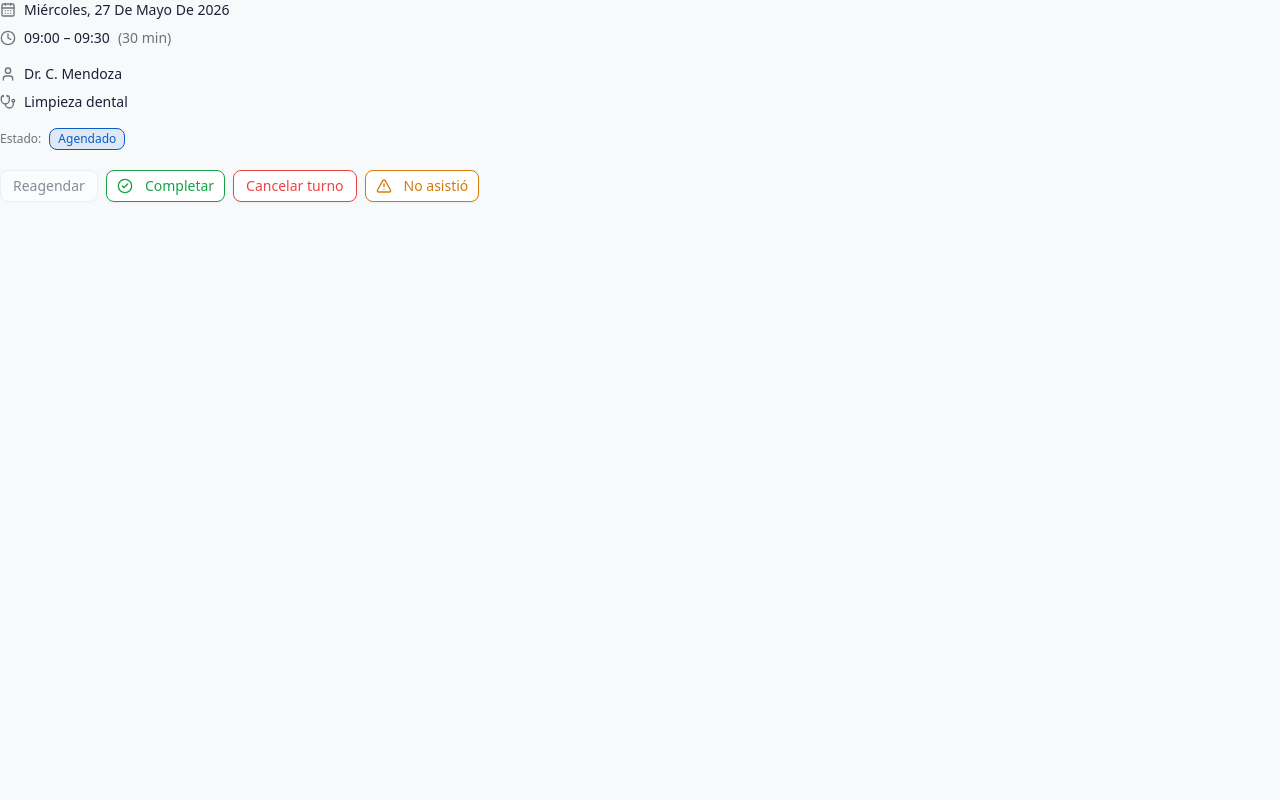
AppointmentDrawerTurnoSection › 'Cancelar turno' click opens confirm dialog (Q8)
Click the button "Cancelar turno". click: (295,186)
box: [233,170,357,202]
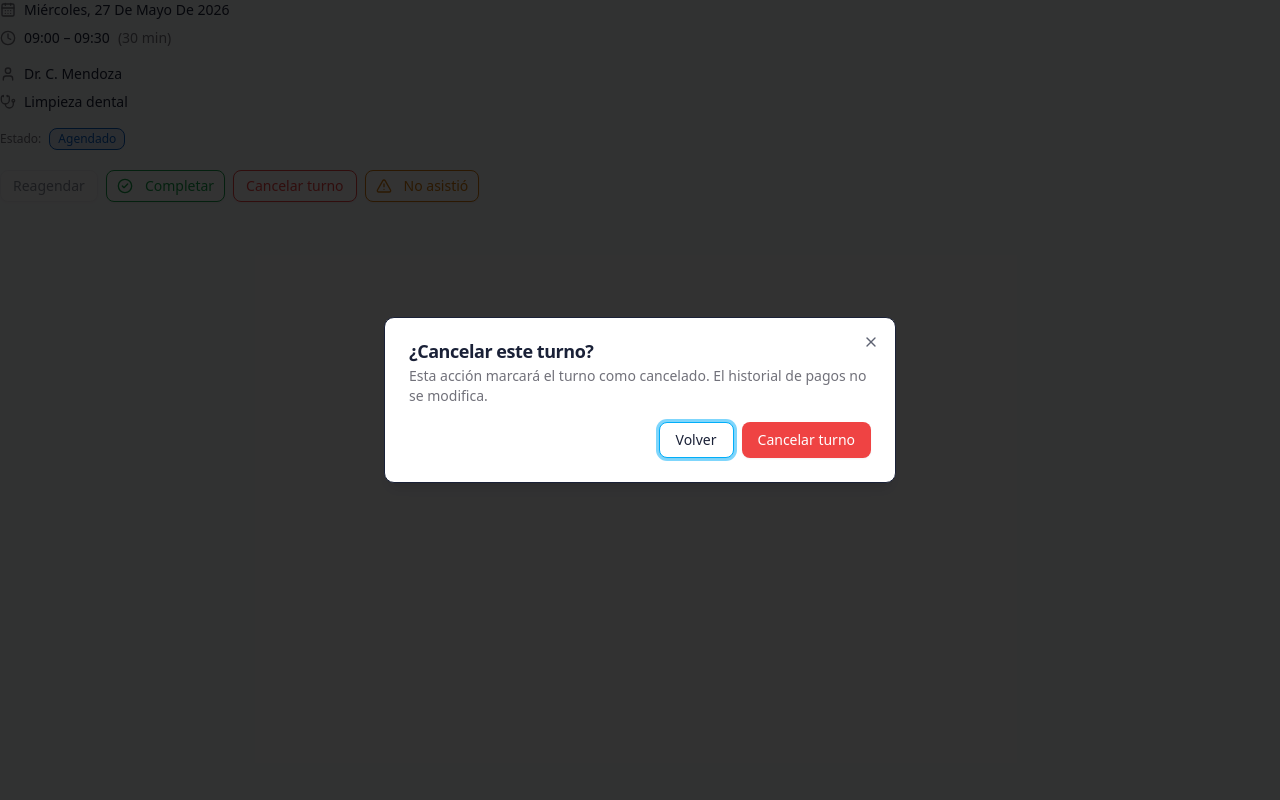
expect the dialog is shown: met, box [384,317,896,483]
expect the heading "¿Cancelar este turno?" is shown: met, box [409,339,594,363]
